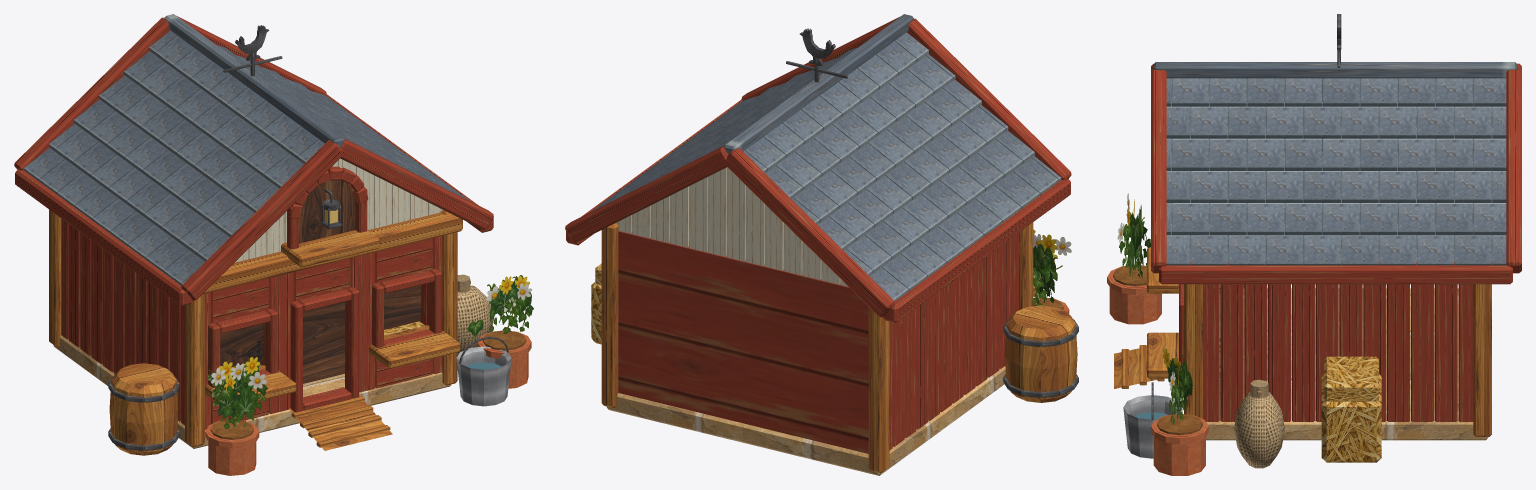
File: ChickenCoop_Companion_Cozy_LOD0.fbx
The picture shows the model from 3 angles, left to right: view 1: azimuth 30°, elevation 25°; view 2: azimuth 150°, elevation 25°; view 3: azimuth 270°, elevation 25°; orthographic projection. The views are drawn at different scales.
Parts seen in each view (by area): view 1: ChickenCoop_Companion_Cozy_LOD0; view 2: ChickenCoop_Companion_Cozy_LOD0; view 3: ChickenCoop_Companion_Cozy_LOD0.
Part boxes in pixels (bbox=[...]): ChickenCoop_Companion_Cozy_LOD0: bbox=[14, 14, 533, 475]; ChickenCoop_Companion_Cozy_LOD0: bbox=[565, 14, 1078, 475]; ChickenCoop_Companion_Cozy_LOD0: bbox=[1107, 14, 1521, 475].
Size of the model in its own units: 4.67 by 3.83 by 3.96.
